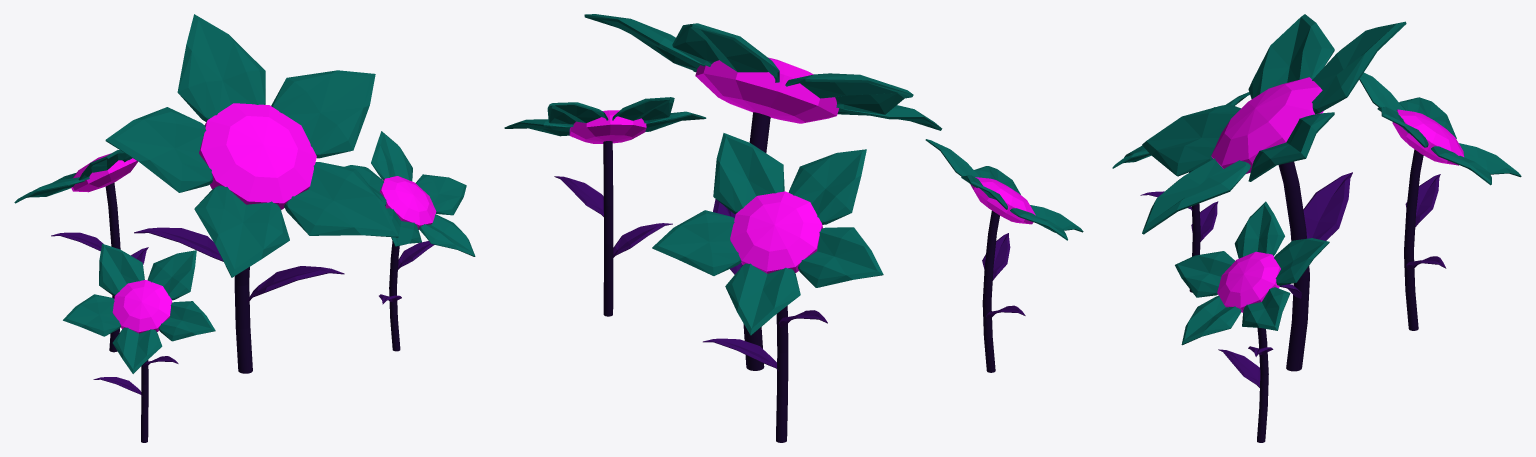
The model's file is FlowerCluster_2.fbx.
3 renders of one model, left to right at view 1: azimuth 30°, elevation 25°; view 2: azimuth 150°, elevation 25°; view 3: azimuth 270°, elevation 25°, orthographic. The views are drawn at different scales.
Visible parts, largest first — view 1: FlowerCluster_2; view 2: FlowerCluster_2; view 3: FlowerCluster_2.
Part boxes in pixels (x1,y1,x2,y2): FlowerCluster_2: (14, 14, 475, 442); FlowerCluster_2: (504, 14, 1083, 442); FlowerCluster_2: (1112, 14, 1521, 442).
Bounding box in the file's own units: 82.53 × 58.27 × 62.18.
